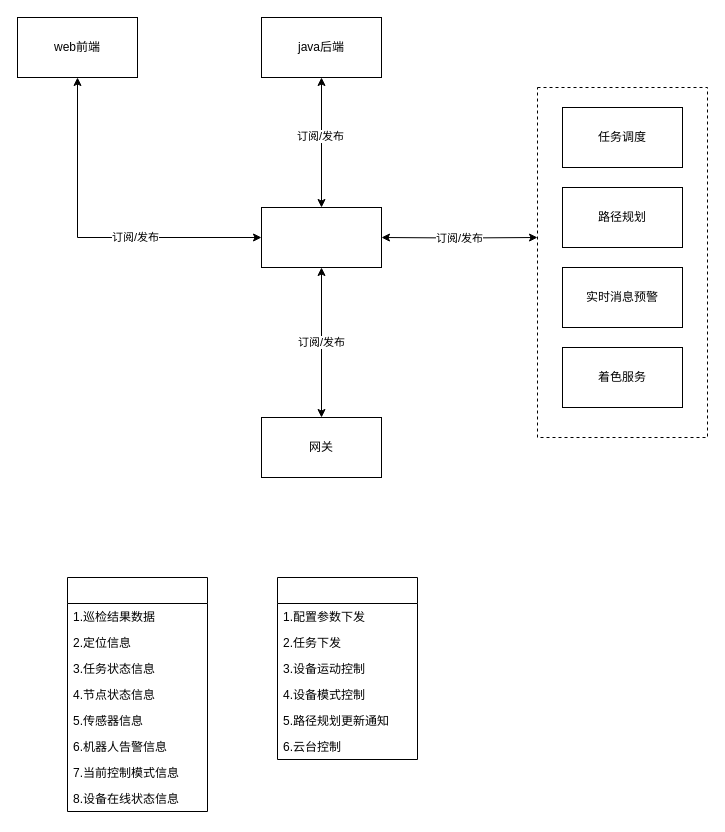
Image size: 725x832. Some labels were removed from this diagram. Here are the shapes that lost their labels. From the top down, the box of each, then its label:
(260, 206, 382, 268): MQTT broker
(276, 576, 418, 760): MQTT—>网关
(66, 576, 208, 812): 网关—>MQTT
